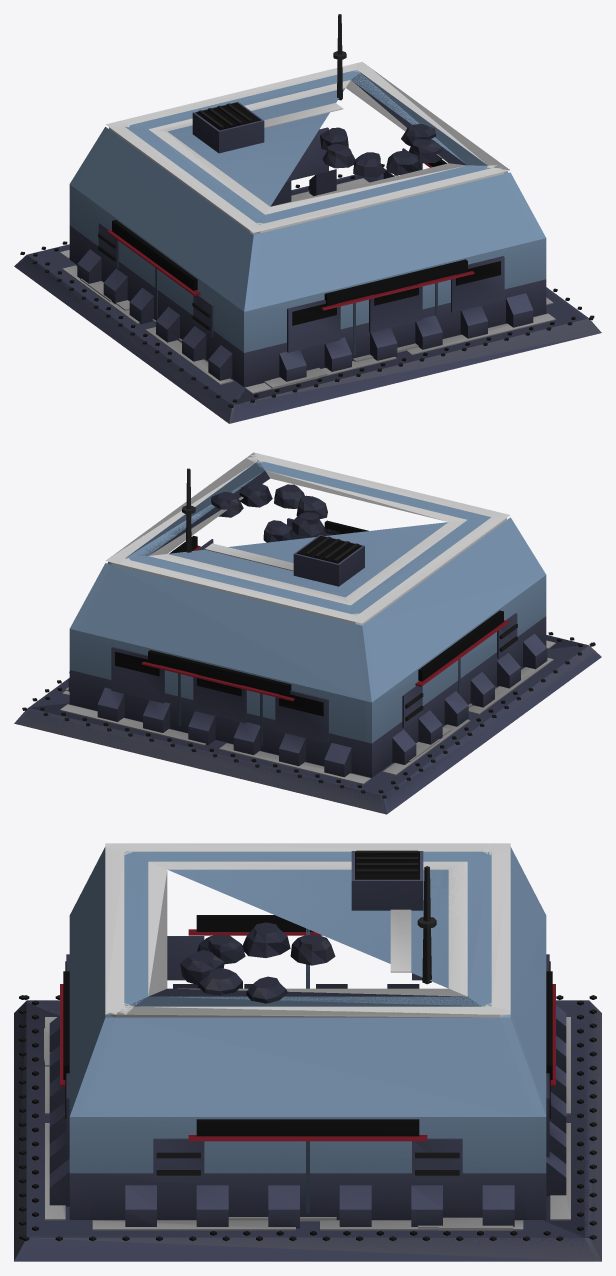
The model's file is veyran_fortified_bunker_damaged.glb.
The picture shows the model from 3 angles, top to bottom: view 1: azimuth 30°, elevation 25°; view 2: azimuth 150°, elevation 25°; view 3: azimuth 270°, elevation 25°; orthographic projection. The views are drawn at different scales.
Visible parts, largest first — view 1: body (×3); view 2: body (×3); view 3: body (×3).
Part boxes in pixels (x1,y1,x2,y2): body (×3): [14, 14, 601, 423]; body (×3): [14, 452, 601, 814]; body (×3): [14, 843, 601, 1261].
Bounding box in the file's own units: 7.4 × 4.45 × 7.4.
